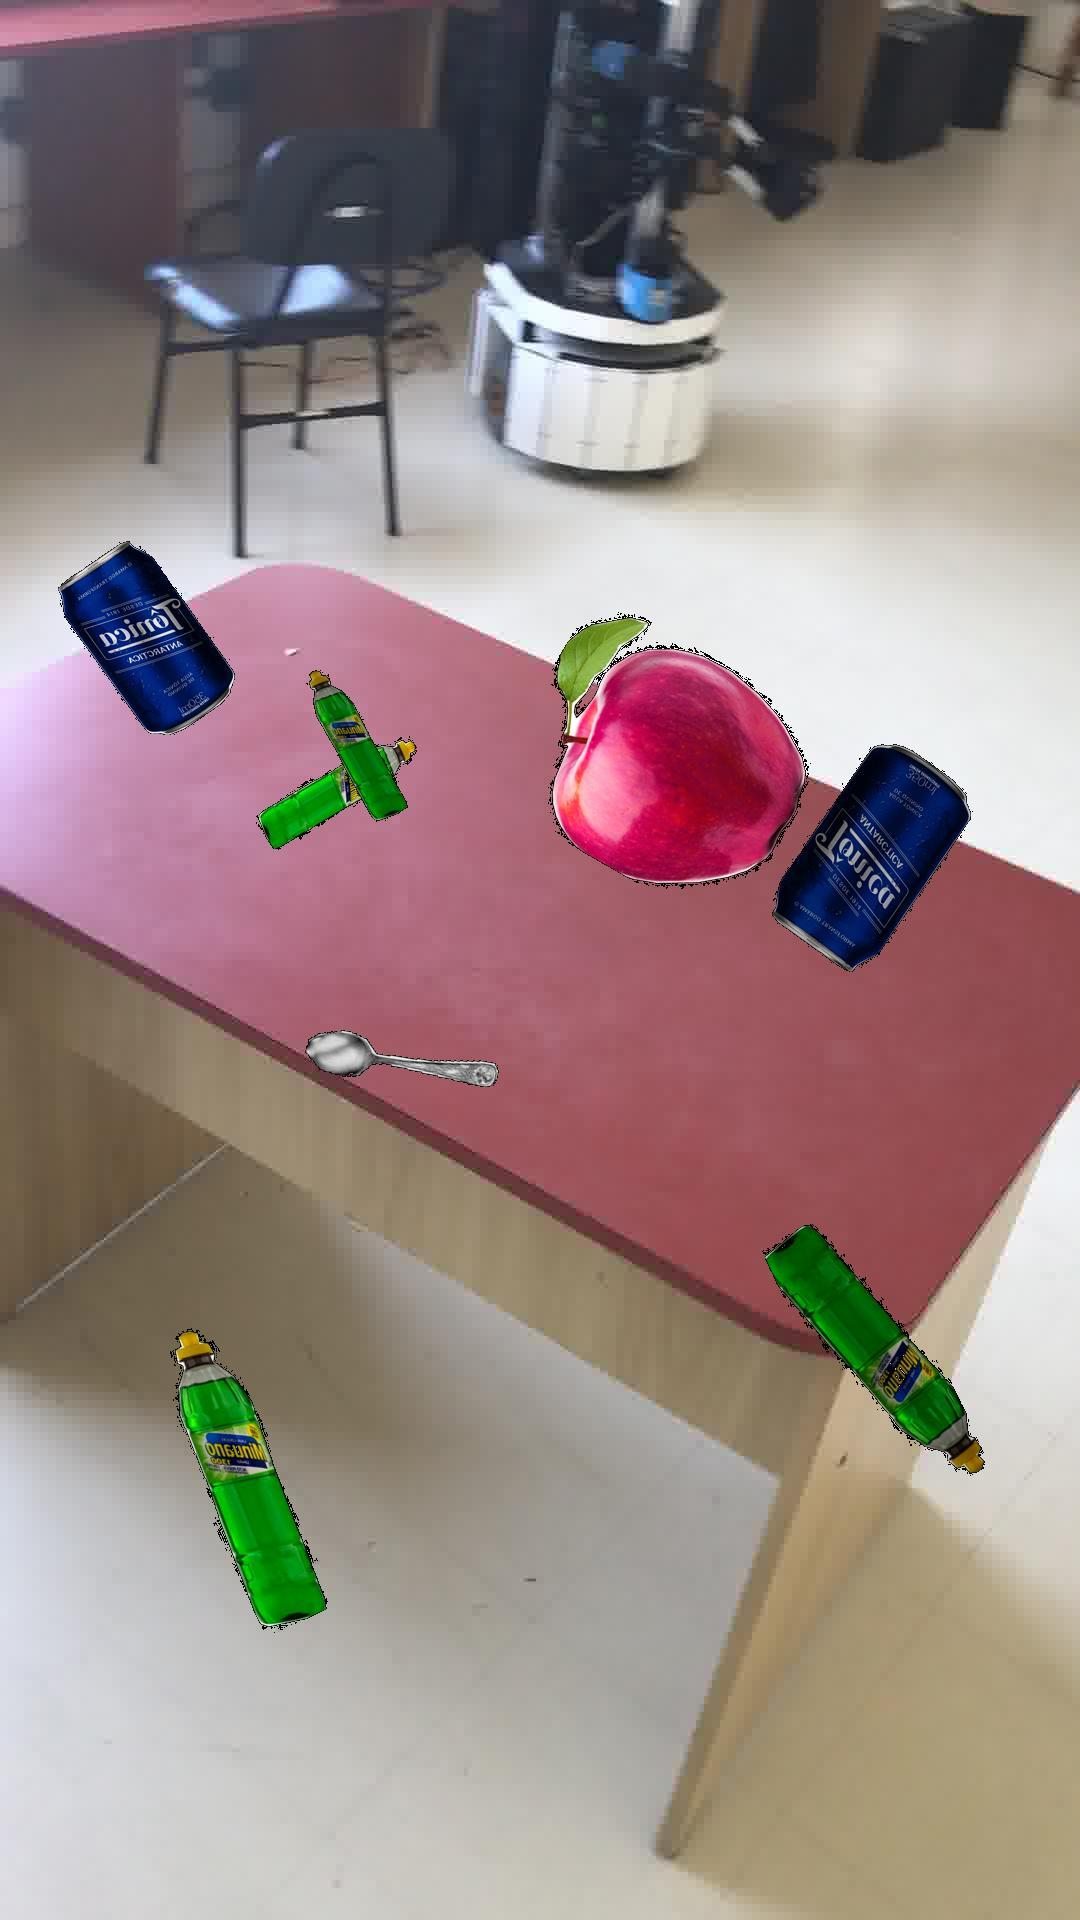apple: (549, 612, 806, 887)
cleaner: (764, 1222, 984, 1473), (171, 1327, 327, 1629), (307, 670, 406, 820)
spoon: (303, 1029, 497, 1085)
tonic: (770, 742, 969, 971), (57, 539, 233, 733)
